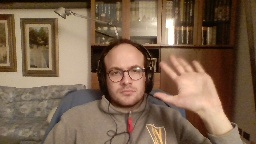Mano_aperta: (150, 52, 221, 116)
